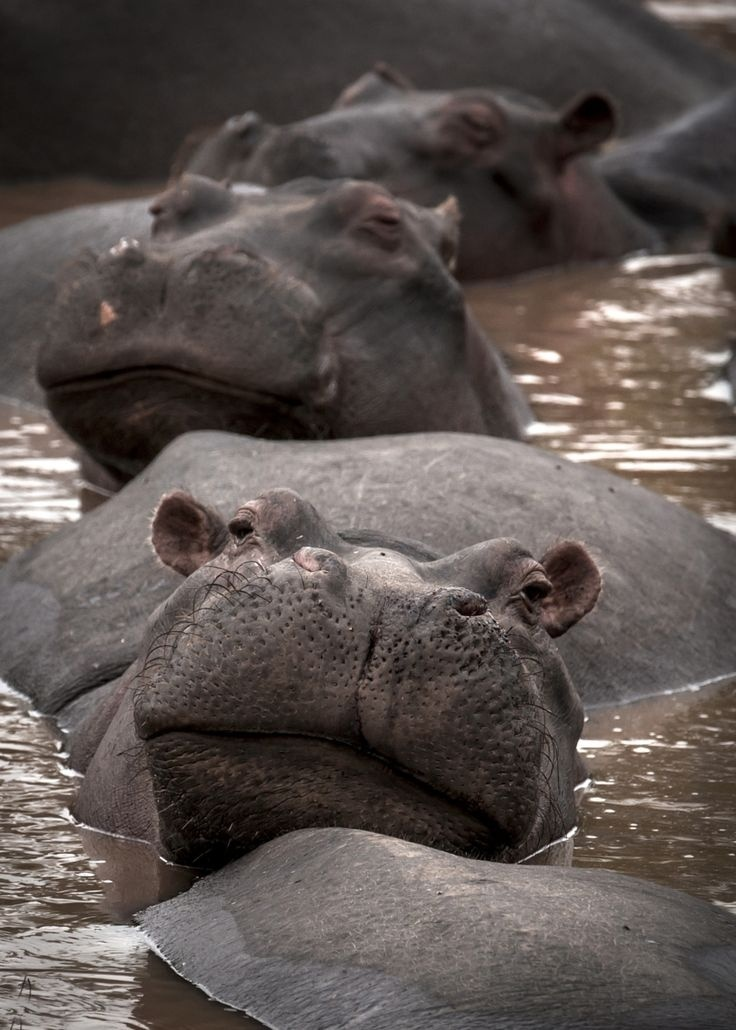hipopotamo: (1, 403, 734, 917), (1, 169, 540, 517), (138, 26, 670, 295)
